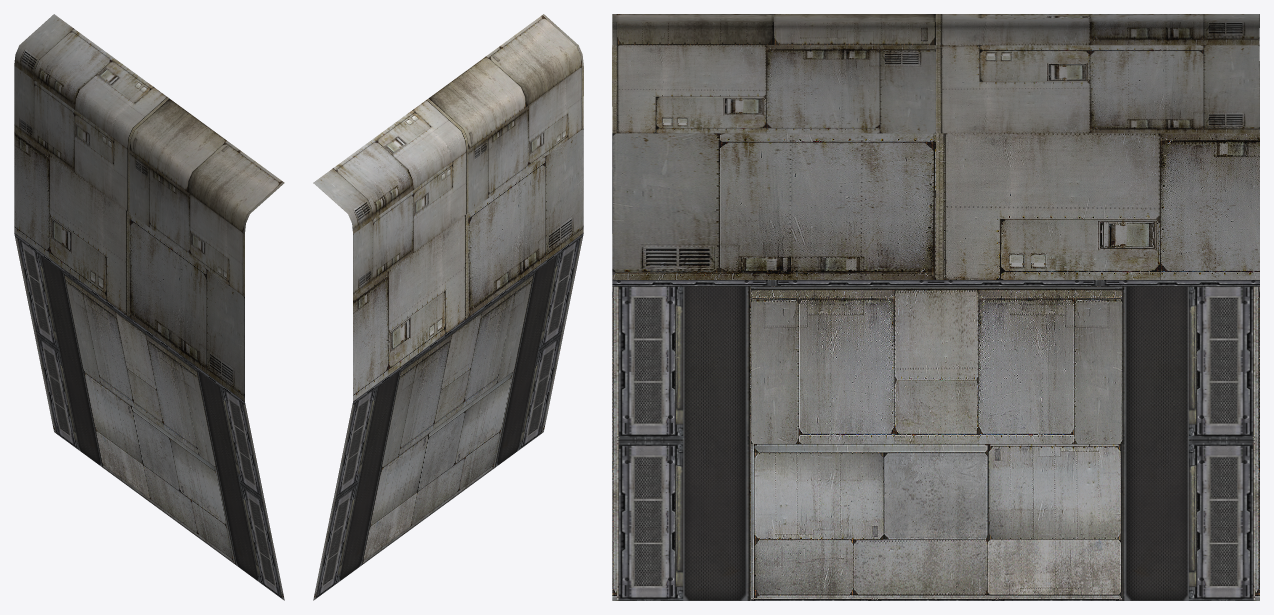
Rendered from Wall_I_Giant10mts_03.fbx.
3 renders of one model, left to right at view 1: azimuth 30°, elevation 25°; view 2: azimuth 150°, elevation 25°; view 3: azimuth 270°, elevation 25°, orthographic. The views are drawn at different scales.
Parts seen in each view (by area): view 1: Wall_I_Giant10mts_03; view 2: Wall_I_Giant10mts_03; view 3: Wall_I_Giant10mts_03.
Boxes of the visible parts, x1,y1,x2,y2 form: Wall_I_Giant10mts_03: (14,14,284,600); Wall_I_Giant10mts_03: (313,14,583,600); Wall_I_Giant10mts_03: (612,14,1259,600).
Bounding box in the file's own units: 200 × 2000 × 2001.
2 materials, 2 textured.
